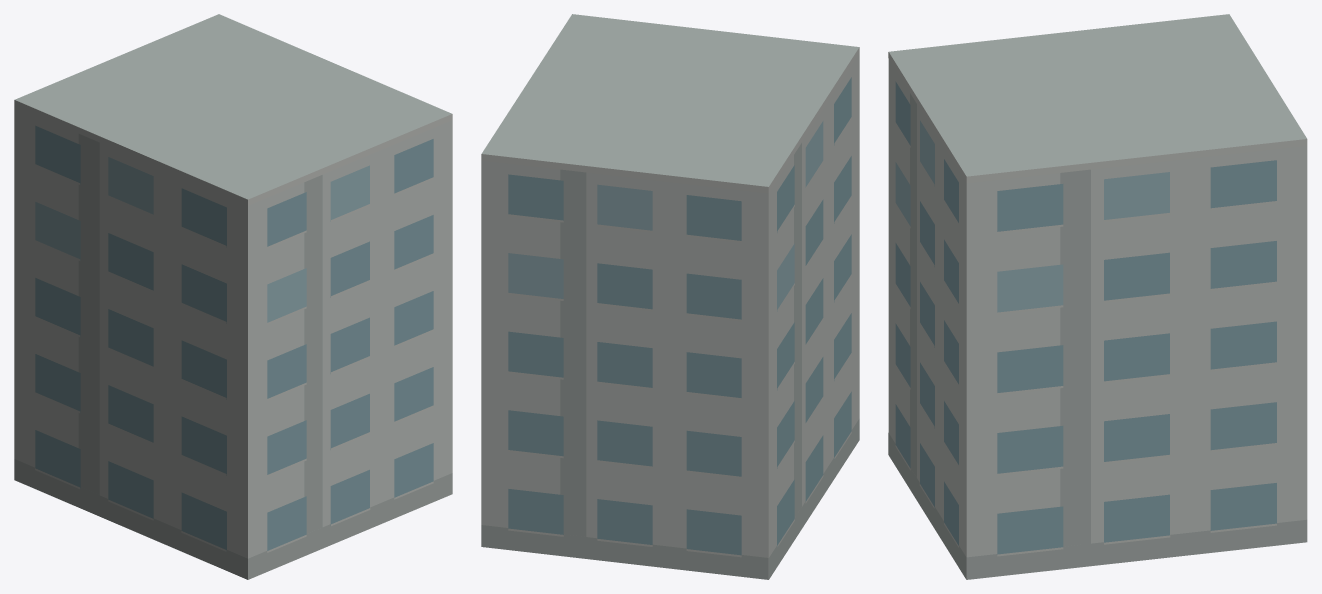
Rendered from survey-upis-32929452.glb.
The picture shows the model from 3 angles, left to right: view 1: azimuth 30°, elevation 25°; view 2: azimuth 150°, elevation 25°; view 3: azimuth 270°, elevation 25°; orthographic projection. The views are drawn at different scales.
Parts seen in each view (by area): view 1: survey-upis-32929452.tmp; view 2: survey-upis-32929452.tmp; view 3: survey-upis-32929452.tmp.
Boxes of the visible parts, bbox=[...] form: survey-upis-32929452.tmp: bbox=[14, 14, 452, 579]; survey-upis-32929452.tmp: bbox=[481, 14, 859, 579]; survey-upis-32929452.tmp: bbox=[888, 14, 1307, 579].
Bounding box in the file's own units: 12.72 × 14.7 × 13.84.
